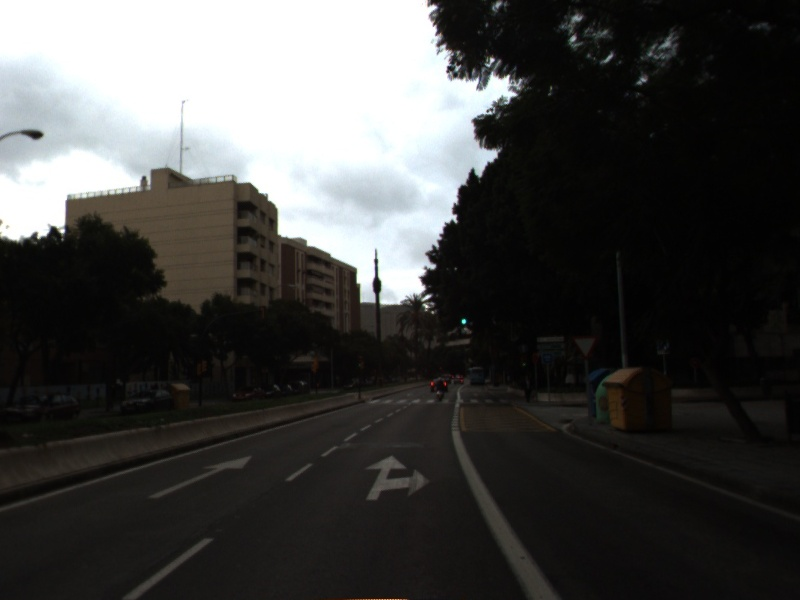STRAIGHT: (145, 452, 255, 501)
STRAIGHT_RIGHT: (362, 453, 435, 503)
